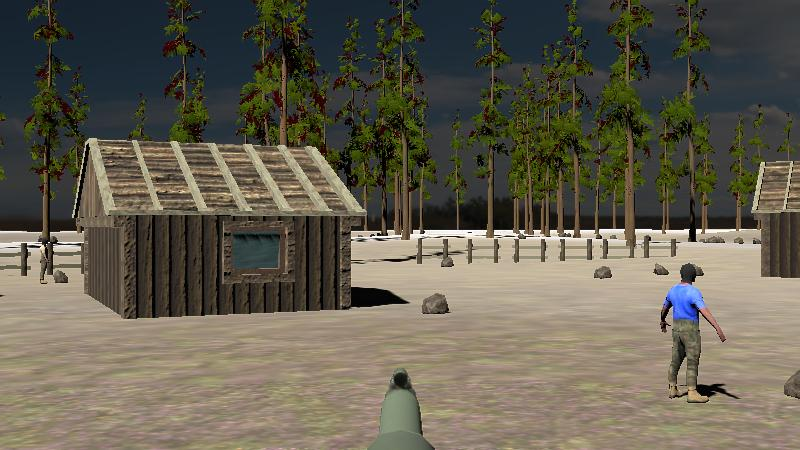House: (72, 139, 365, 318), (751, 160, 800, 278)
Human: (659, 260, 728, 403)
